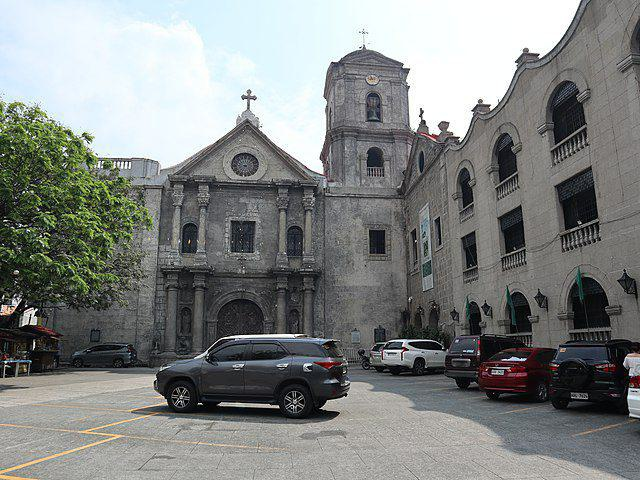san_agustin_church_intramuros_manila: (162, 19, 421, 357)
